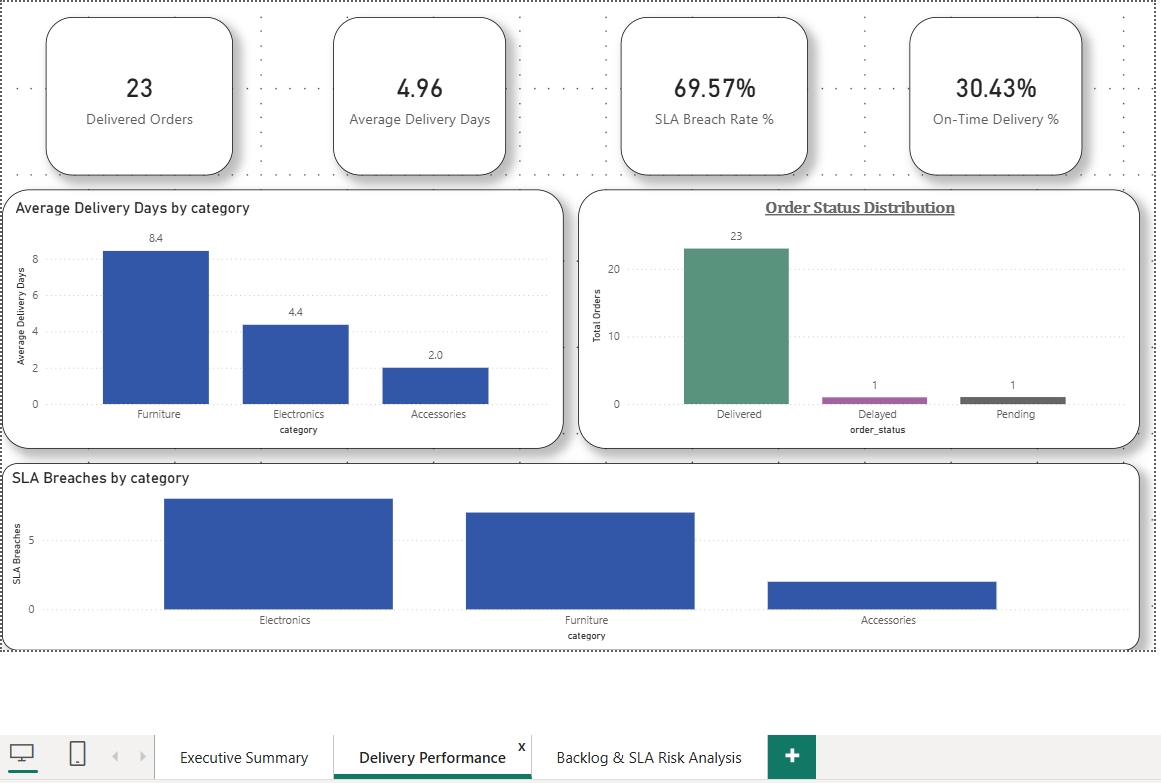

What the dashboard file says about the page in this screenshot:
{"tool":"powerbi","page":{"name":"Delivery Performance","canvas":[1280,720],"ordinal":1},"visuals":[{"type":"clusteredColumnChart","title":"Order Status Distribution","fields":{"Category":["sample_orders.order_status"],"Y":["sample_orders.Total Orders"]},"box":[640,208,624,288],"z":0},{"type":"clusteredColumnChart","fields":{"Category":["products.category"],"Y":["sample_orders.Average Delivery Days"]},"box":[0,208,624,288],"z":1000},{"type":"clusteredColumnChart","fields":{"Category":["products.category"],"Y":["products.SLA Breaches"]},"box":[0,512,1264,208],"z":2000},{"type":"card","fields":{"Values":["sample_orders.Delivered Orders"]},"box":[48,16,208,176],"z":4000},{"type":"card","fields":{"Values":["sample_orders.On-Time Delivery %"]},"box":[1008,16,192,176],"z":5000},{"type":"card","fields":{"Values":["sample_orders.Average Delivery Days"]},"box":[368,16,192,176],"z":6000},{"type":"card","fields":{"Values":["sample_orders.SLA Breach Rate %"]},"box":[688,16,208,176],"z":7000}]}

Visuals, with their boxes in screenshot pixels (x1, y1, x2, y2):
"Order Status Distribution" clusteredColumnChart: region(572, 189, 1131, 447)
clusteredColumnChart - products.category x sample_orders.Average Delivery Days: region(0, 189, 558, 447)
clusteredColumnChart - products.category x products.SLA Breaches: region(0, 461, 1131, 647)
card - sample_orders.Delivered Orders: region(43, 17, 229, 175)
card - sample_orders.On-Time Delivery %: region(902, 17, 1073, 175)
card - sample_orders.Average Delivery Days: region(329, 17, 501, 175)
card - sample_orders.SLA Breach Rate %: region(615, 17, 801, 175)
